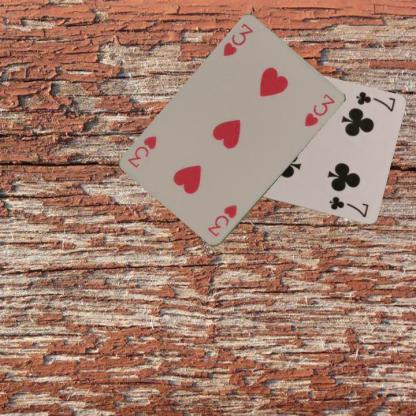3h: (219, 21, 254, 59), (204, 202, 238, 239)
7c: (352, 89, 396, 113)
